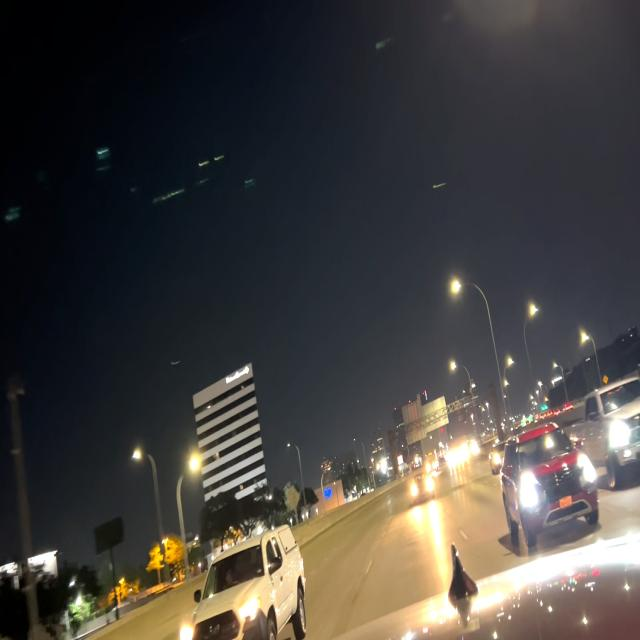back-of-sign: (401, 391, 449, 448), (285, 480, 300, 508), (462, 485, 463, 495)
